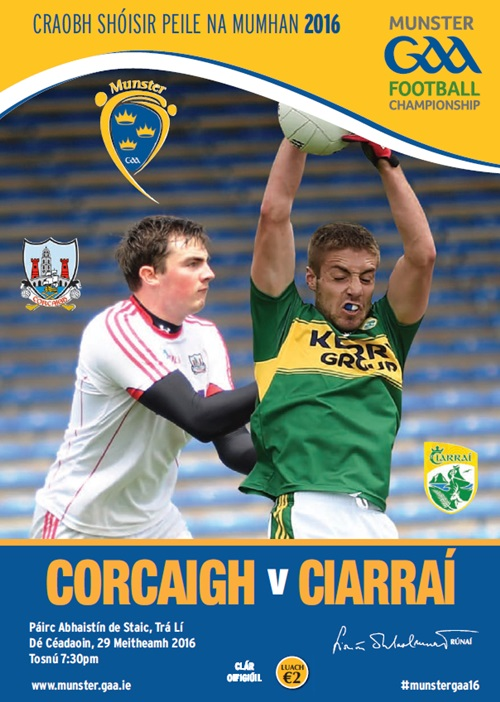ball: (265, 92, 359, 157)
player: (248, 214, 428, 526), (76, 209, 247, 519)
